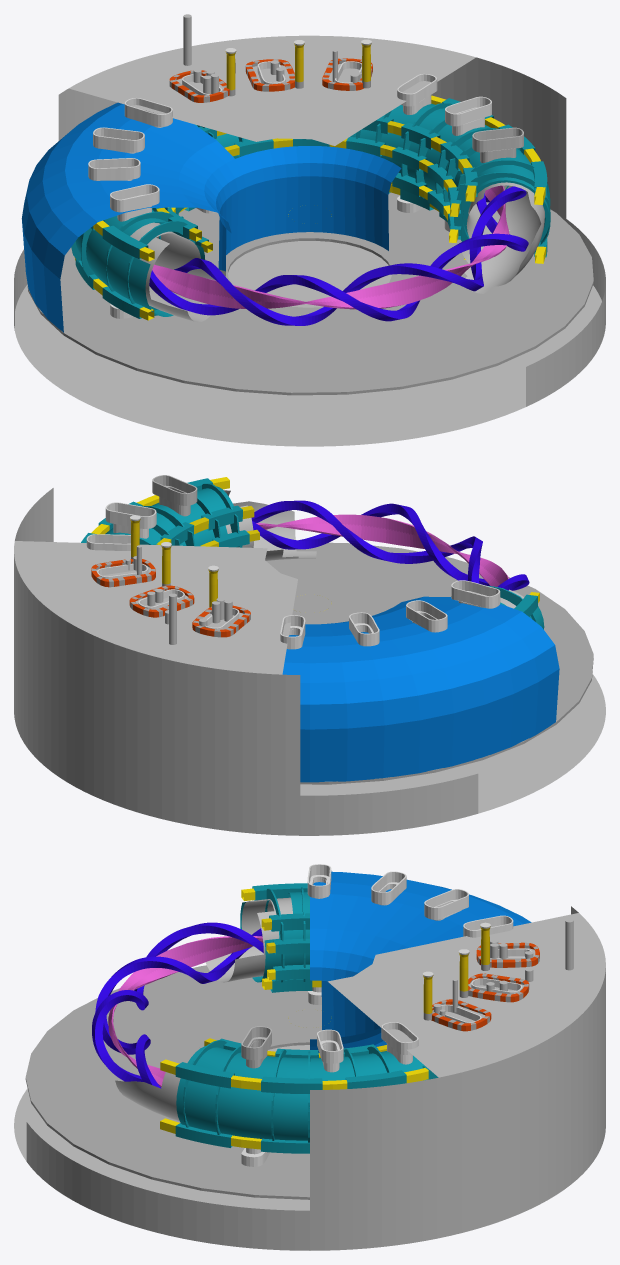
File: LHD0820_12.glb
3 views of the same model, one above another, from view 1: azimuth 30°, elevation 25°; view 2: azimuth 150°, elevation 25°; view 3: azimuth 270°, elevation 25° (orthographic).
Parts seen in each view (by area): view 1: Cylinder.032, Cylinder, Torus.001, Circle_VacuumVesselOutside, Circle_VacuumVesselInside, Plane, helical_Coil001, helical_Coil001.001, Cylinder.011, Plane.004, Plane.005, Cylinder.014 (+18 smaller); view 2: Cylinder.032, Torus.001, Cylinder, Plane, helical_Coil001.001, helical_Coil001, Circle_VacuumVesselOutside, Circle_VacuumVesselInside, Cylinder.014, Cylinder.012, Plane.011, Cylinder.022 (+11 smaller); view 3: Cylinder.032, Cylinder, Torus.001, Circle_VacuumVesselOutside, Circle_VacuumVesselInside, helical_Coil001, Plane, helical_Coil001.001, Plane.005, Plane.010, Plane.011, Plane_PoloidalCoilUpOut (+14 smaller).
Boxes of the visible parts, bbox=[...] form: Cylinder.032: bbox=[14, 35, 605, 446]; Cylinder: bbox=[27, 192, 593, 395]; Torus.001: bbox=[21, 102, 401, 332]; Circle_VacuumVesselOutside: bbox=[75, 103, 550, 316]; Circle_VacuumVesselInside: bbox=[130, 182, 544, 322]; Plane: bbox=[152, 185, 509, 309]; helical_Coil001: bbox=[174, 186, 526, 325]; helical_Coil001.001: bbox=[149, 193, 528, 321]; Cylinder.011: bbox=[454, 159, 550, 252]; Plane.004: bbox=[392, 98, 493, 210]; Plane.005: bbox=[102, 212, 208, 318]; Cylinder.014: bbox=[472, 127, 523, 162]; Cylinder.032: bbox=[14, 488, 605, 835]; Torus.001: bbox=[282, 596, 559, 782]; Cylinder: bbox=[266, 542, 593, 784]; Plane: bbox=[256, 514, 508, 586]; helical_Coil001.001: bbox=[251, 500, 482, 583]; helical_Coil001: bbox=[252, 503, 529, 590]; Circle_VacuumVesselOutside: bbox=[105, 486, 544, 629]; Circle_VacuumVesselInside: bbox=[224, 490, 523, 608]; Cylinder.014: bbox=[152, 475, 197, 516]; Cylinder.012: bbox=[105, 502, 156, 538]; Plane.011: bbox=[187, 478, 249, 547]; Cylinder.022: bbox=[451, 580, 500, 608]; Cylinder.032: bbox=[14, 906, 605, 1250]; Cylinder: bbox=[25, 965, 321, 1199]; Torus.001: bbox=[310, 871, 531, 1052]; Circle_VacuumVesselOutside: bbox=[176, 892, 426, 1140]; Circle_VacuumVesselInside: bbox=[115, 897, 292, 1121]; helical_Coil001: bbox=[92, 922, 263, 1081]; Plane: bbox=[108, 936, 263, 1087]; helical_Coil001.001: bbox=[95, 928, 262, 1088]; Plane.005: bbox=[252, 883, 312, 992]; Plane.010: bbox=[261, 1048, 322, 1153]; Plane.011: bbox=[175, 1038, 241, 1147]; Plane_PoloidalCoilUpOut: bbox=[160, 888, 428, 1090].
Bounding box in the file's own units: 13.53 × 5.26 × 13.53.
